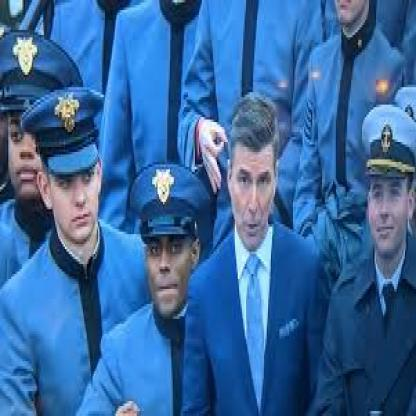ok: (196, 112, 230, 197)
